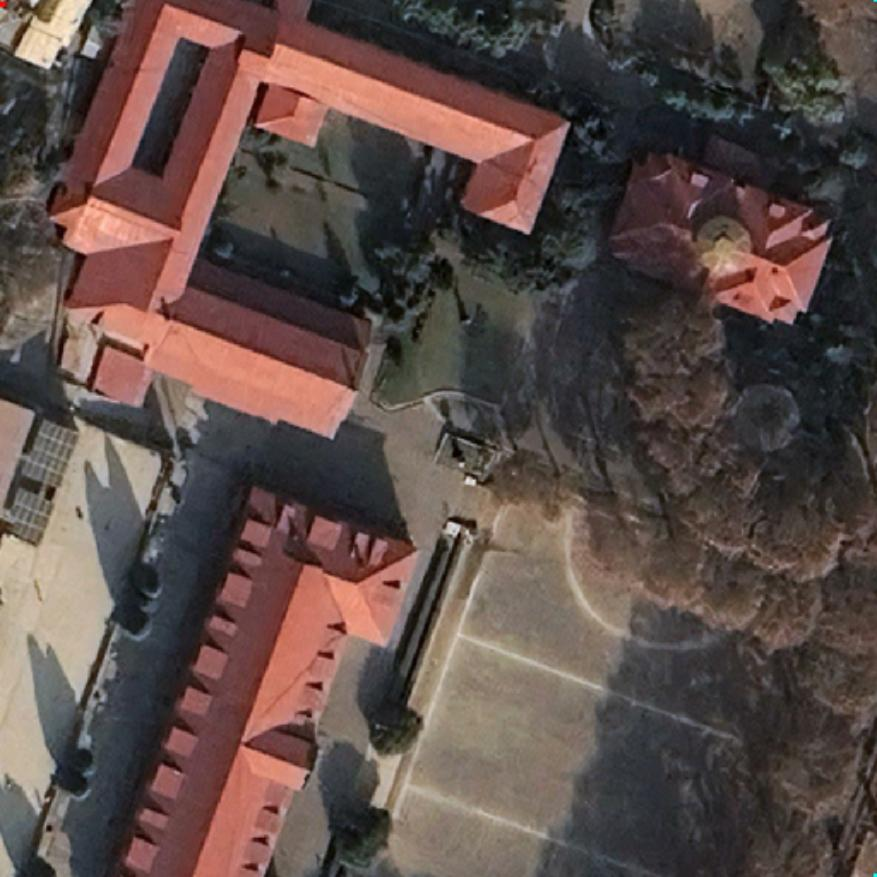Solarpanel: (18, 417, 84, 488), (1, 485, 60, 551)
